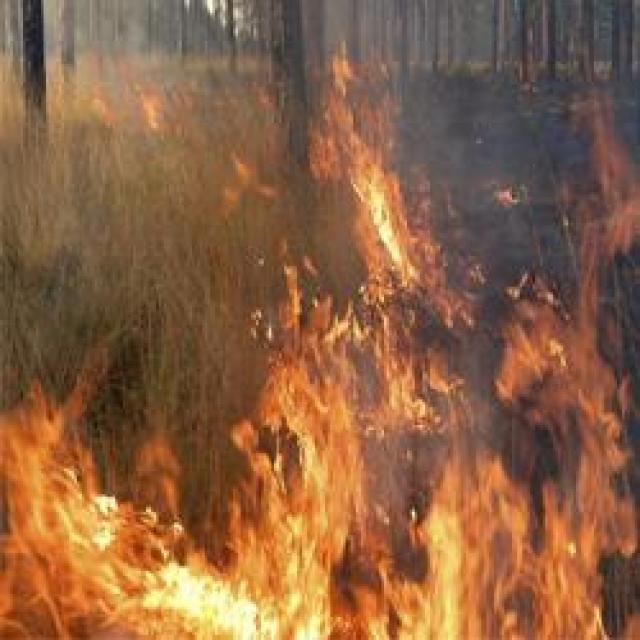fire: (159, 574, 256, 640), (426, 519, 476, 640), (368, 185, 410, 267)
smoke: (218, 168, 296, 236)
